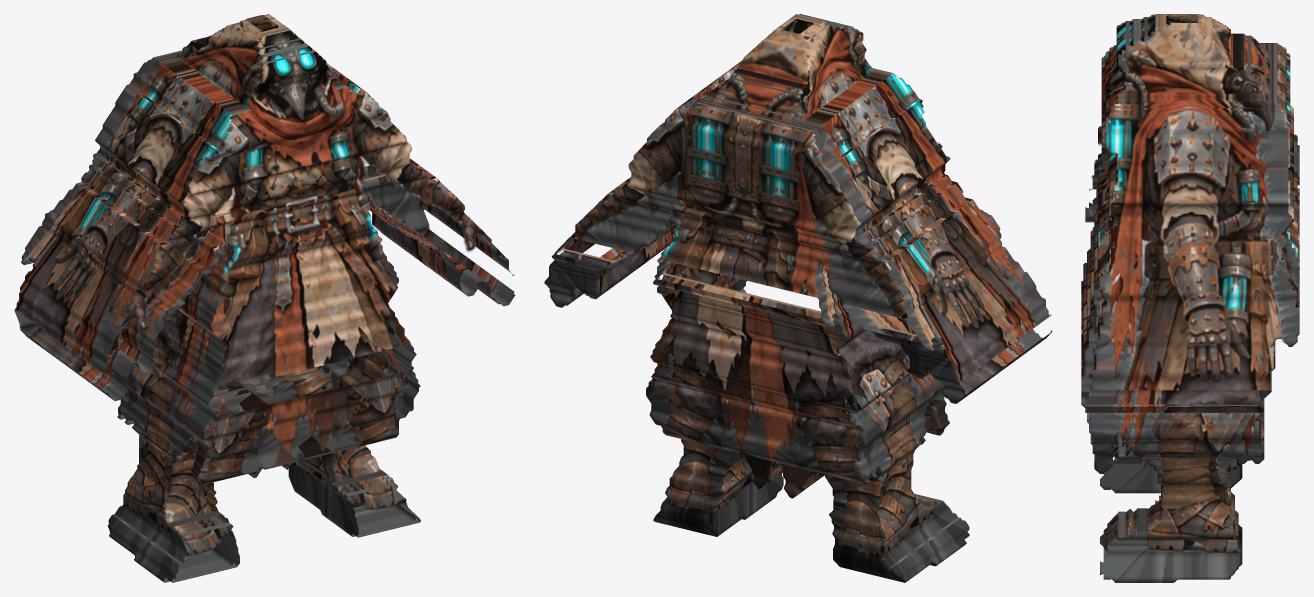
File: ashland-survivor-hull-r3.glb
The picture shows the model from 3 angles, left to right: view 1: azimuth 30°, elevation 25°; view 2: azimuth 150°, elevation 25°; view 3: azimuth 270°, elevation 25°; orthographic projection.
Visible parts, largest first — view 1: ASHLAND | Survivor visual hull; view 2: ASHLAND | Survivor visual hull; view 3: ASHLAND | Survivor visual hull.
Part boxes in pixels (box(x1,y1,x2,y2)): ASHLAND | Survivor visual hull: box(14, 14, 515, 582); ASHLAND | Survivor visual hull: box(544, 14, 1052, 582); ASHLAND | Survivor visual hull: box(1081, 14, 1299, 582).
Bounding box in the file's own units: 0.8158 × 0.9591 × 0.3744.
4 materials, 4 textured.
